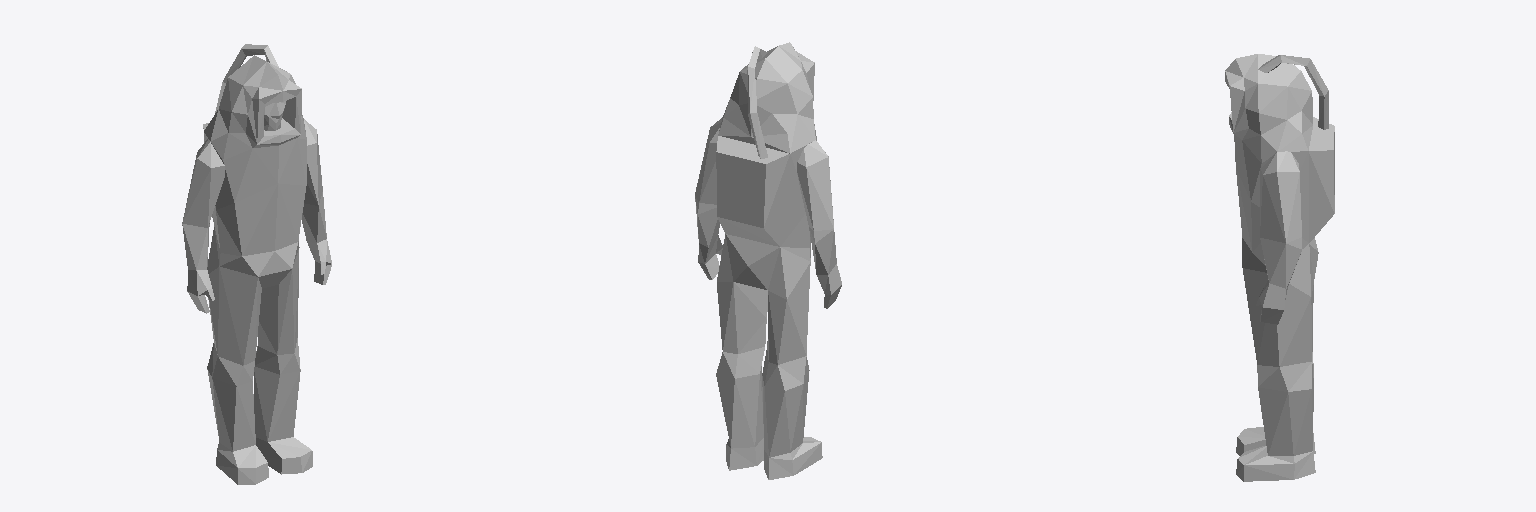
Rendered from Cleansuit Multiplayer Nerd.obj.
3 views of the same model, side by side, from view 1: azimuth 30°, elevation 25°; view 2: azimuth 150°, elevation 25°; view 3: azimuth 270°, elevation 25° (orthographic).
Parts seen in each view (by area): view 1: body; view 2: body; view 3: body.
Boxes of the visible parts, box(x1,y1,x2,y2) form: body: box(182, 44, 331, 484); body: box(695, 42, 841, 479); body: box(1225, 54, 1334, 481).
Size of the model in its own units: 26.98 by 76.23 by 18.29.